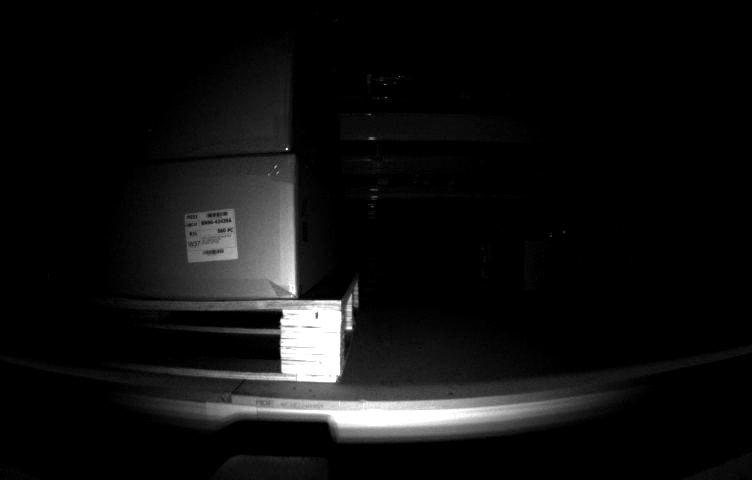True Barcode: (183, 211, 238, 263)
